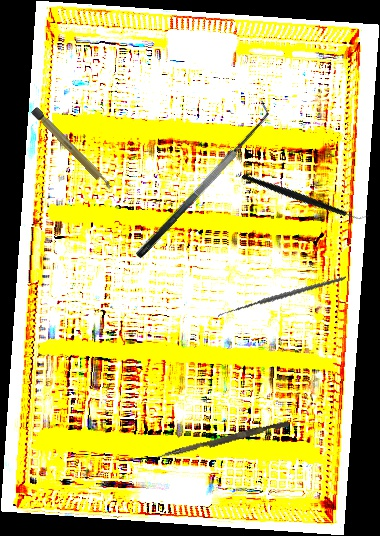Chopper: (240, 135, 371, 258)
Hook Surgical: (216, 248, 346, 351)
Pusher: (156, 417, 290, 464)
Scalpel Handle: (29, 106, 115, 193)
Spatula Surgical: (123, 99, 280, 260)
